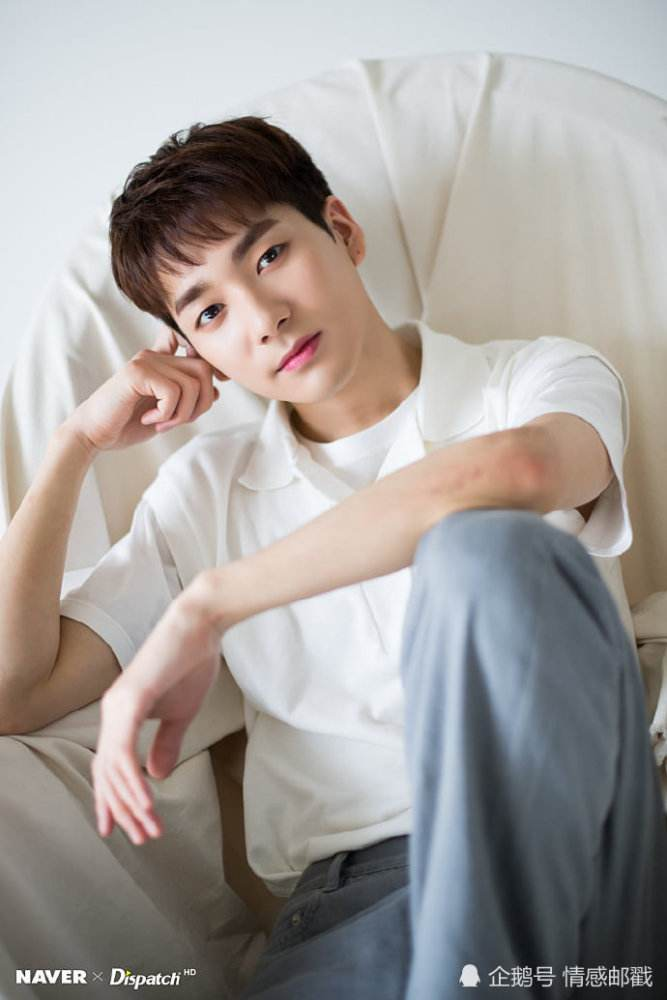person: (34, 72, 546, 790)
